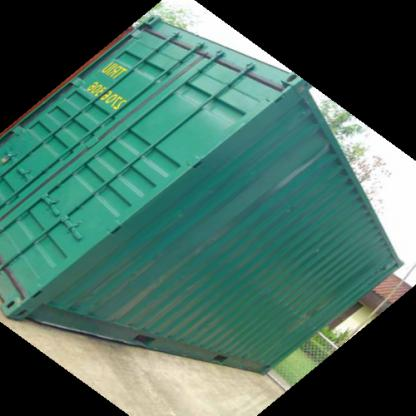Damage: (85, 253, 186, 340), (264, 139, 329, 195), (263, 290, 329, 332)
